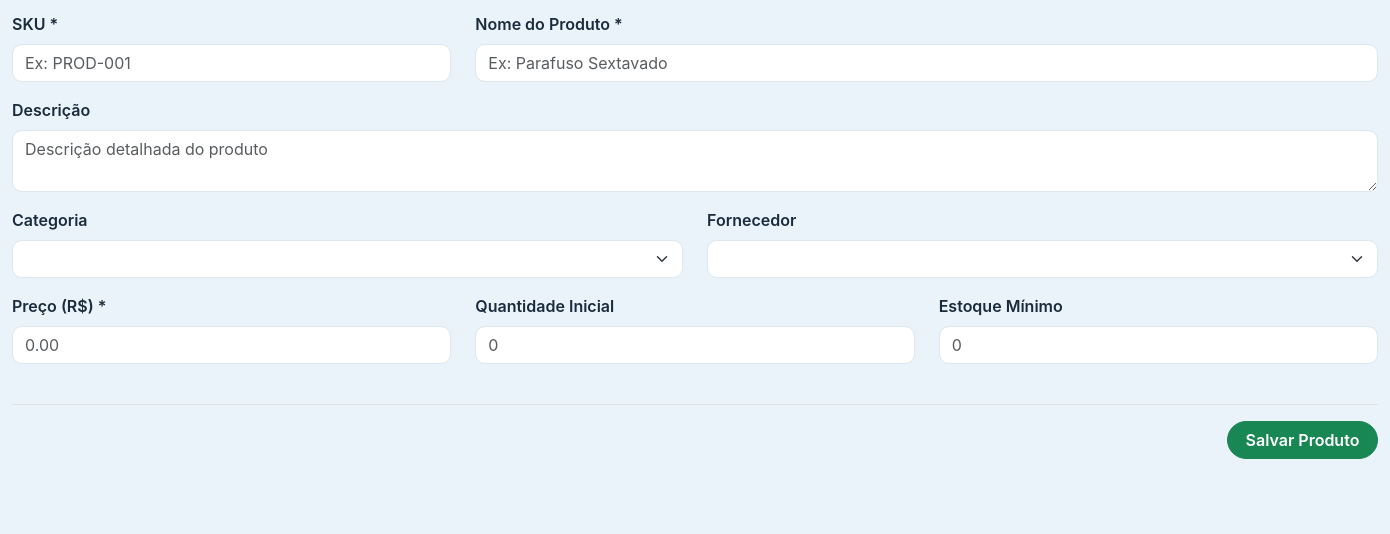
it: Organism FormCreateProduct › deve exibir mensagem de erro quando saveService falhar
Type "ABC-100" into the field labelled "SKU *" at point(232, 63), box 12,44 -> 451,82
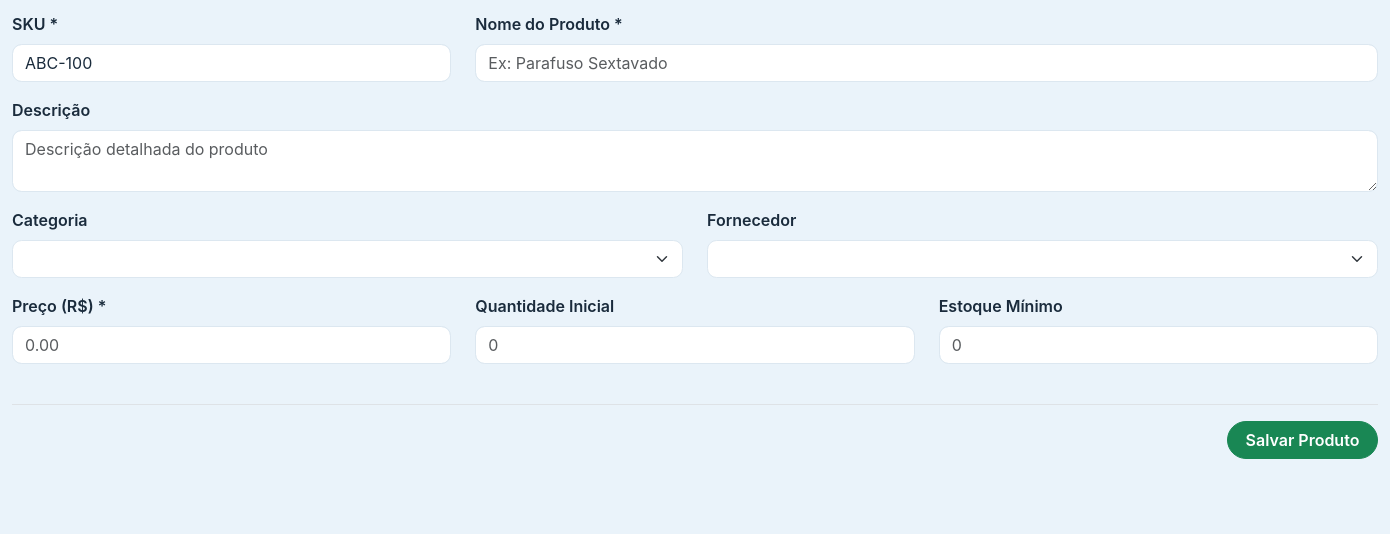
Type "Parafuso Aço" into the field labelled "Nome do Produto *" at point(927, 63), box 475,44 -> 1378,82
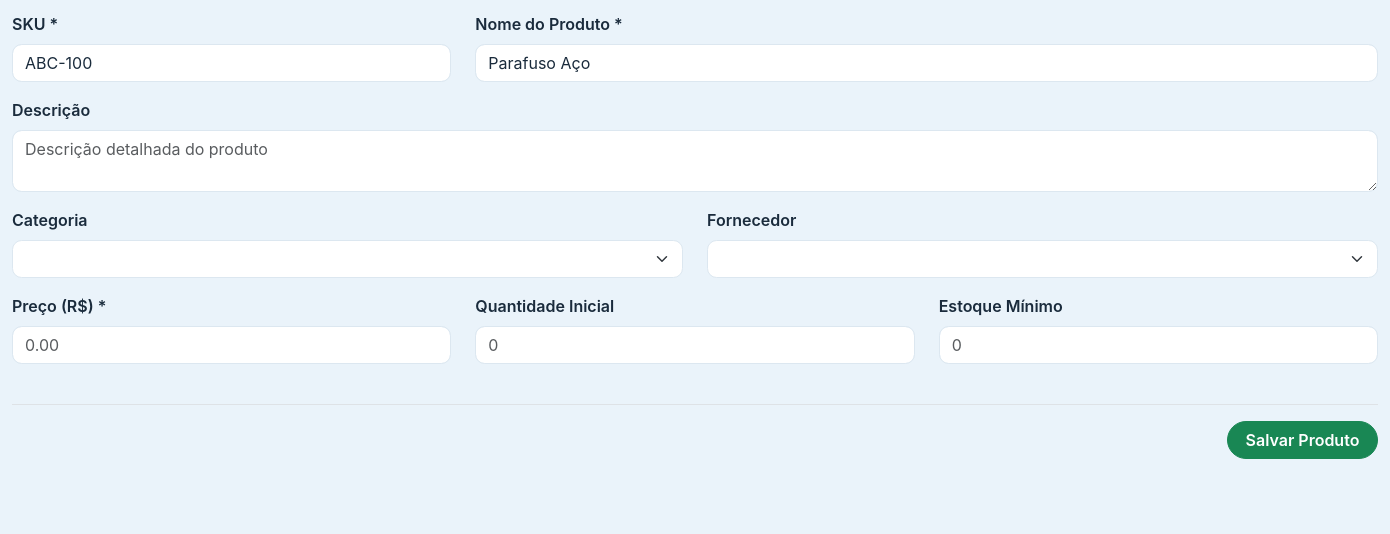
Type "10" into the number field labelled "Preço (R$) *" at point(232, 345), box 12,326 -> 451,364
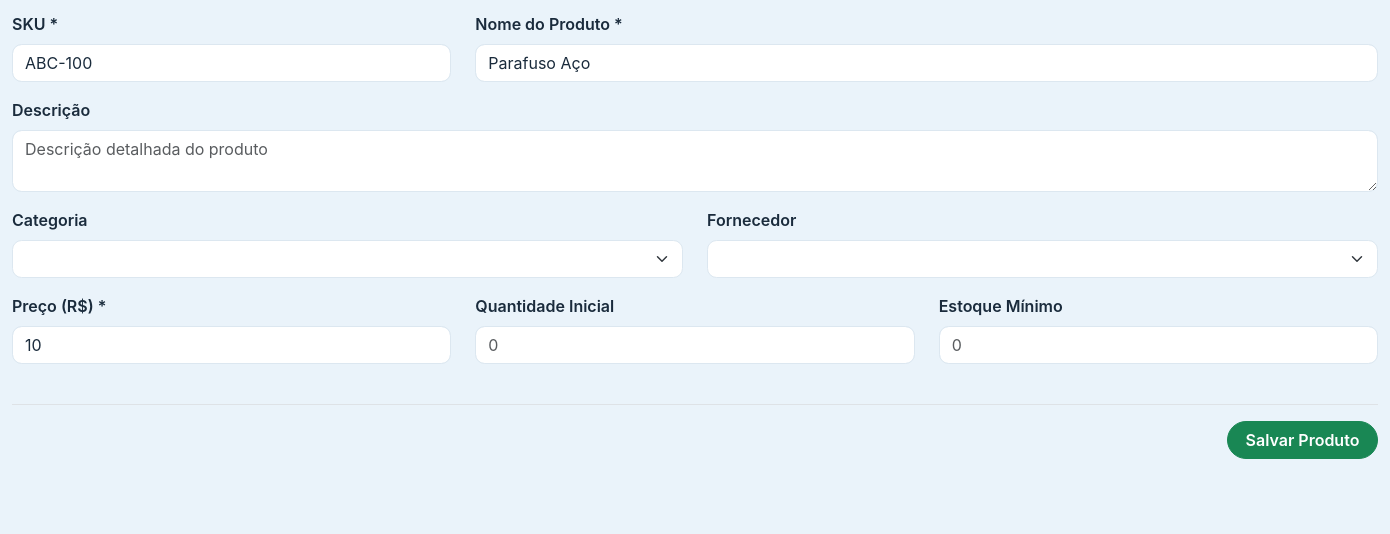
Click the button "Salvar Produto" at point(1302, 440), box 1227,421 -> 1378,459
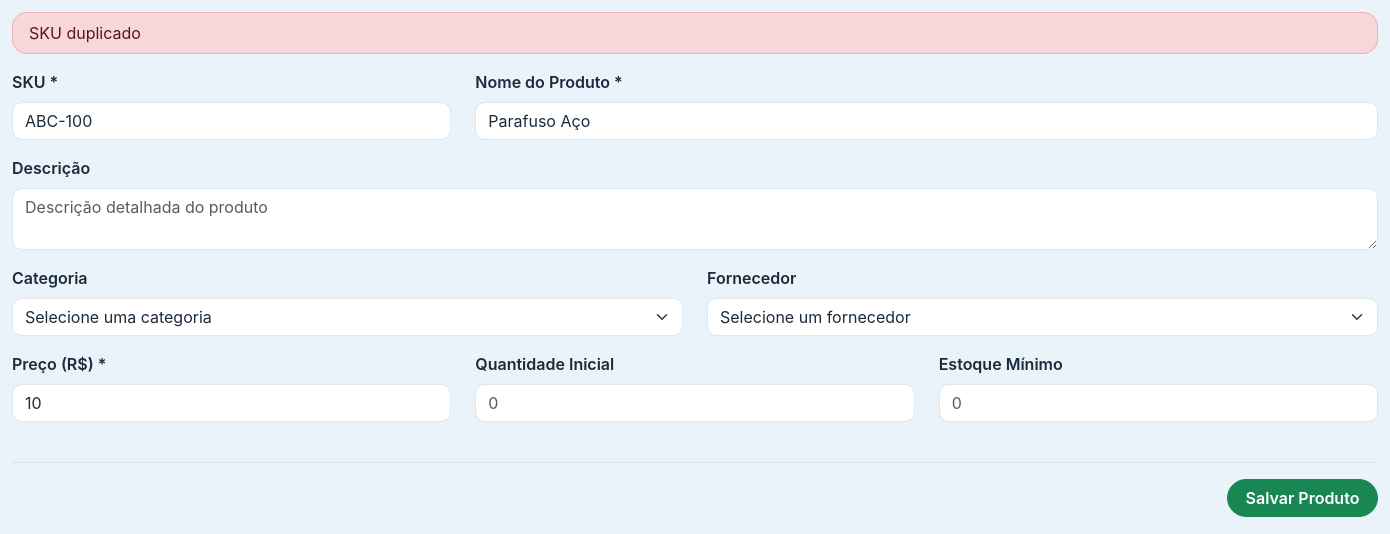
Check: the text "SKU duplicado" is shown, box 12,12 -> 1378,54
